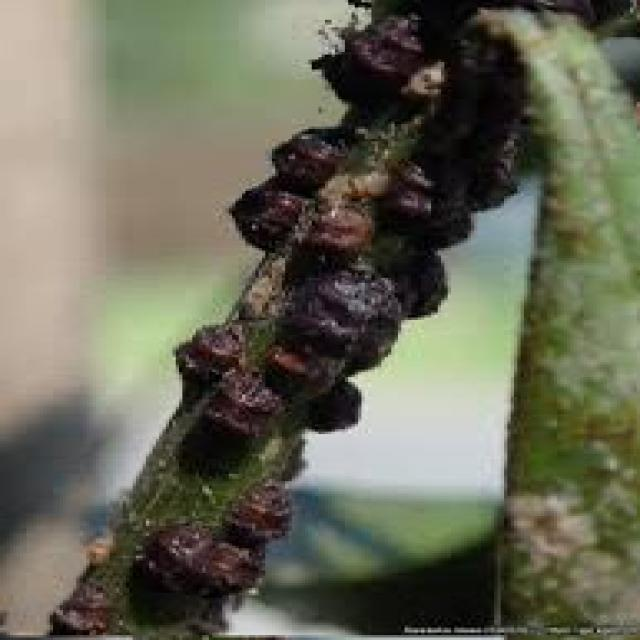BlackScale: (136, 478, 292, 596), (272, 265, 401, 392), (226, 127, 352, 250), (175, 318, 278, 434)
